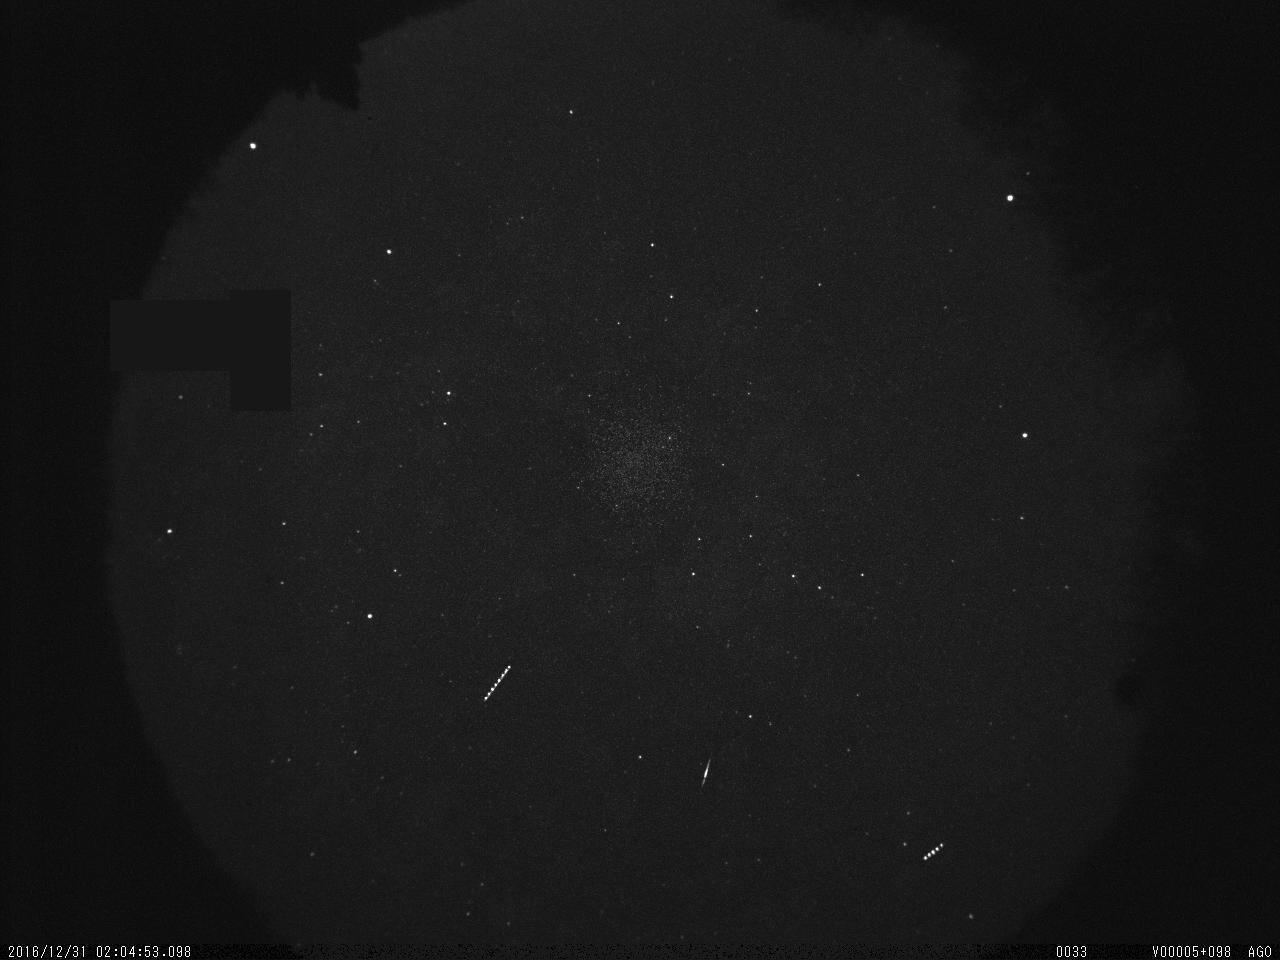meteor: (688, 750, 720, 797)
satelite: (480, 660, 519, 706), (918, 832, 952, 869)
